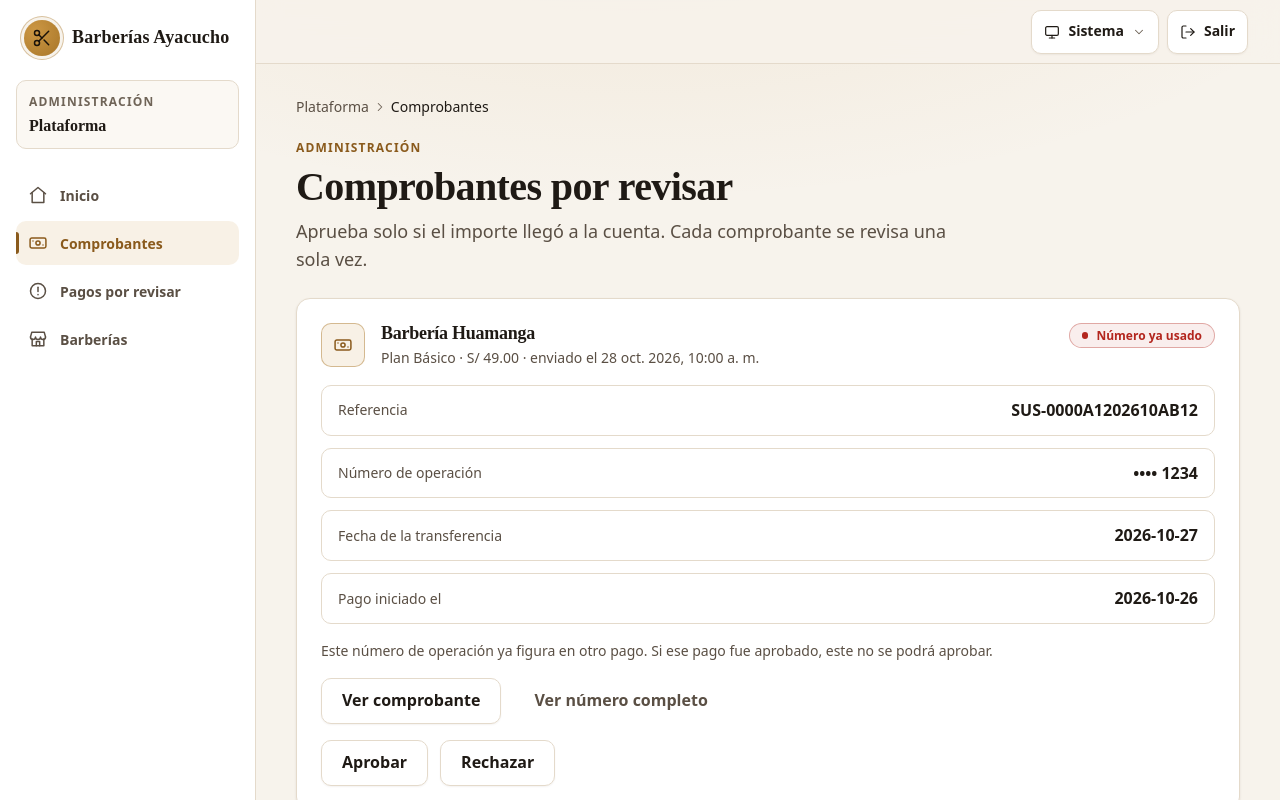
Scenario: Comprobantes por revisar (/plataforma/comprobantes) › rechaza con motivo (y no sin él)
The image size is (1280, 800).
Step 1. Click the button "Rechazar" → (498, 763), box [440, 740, 555, 786]
(page scrolled)
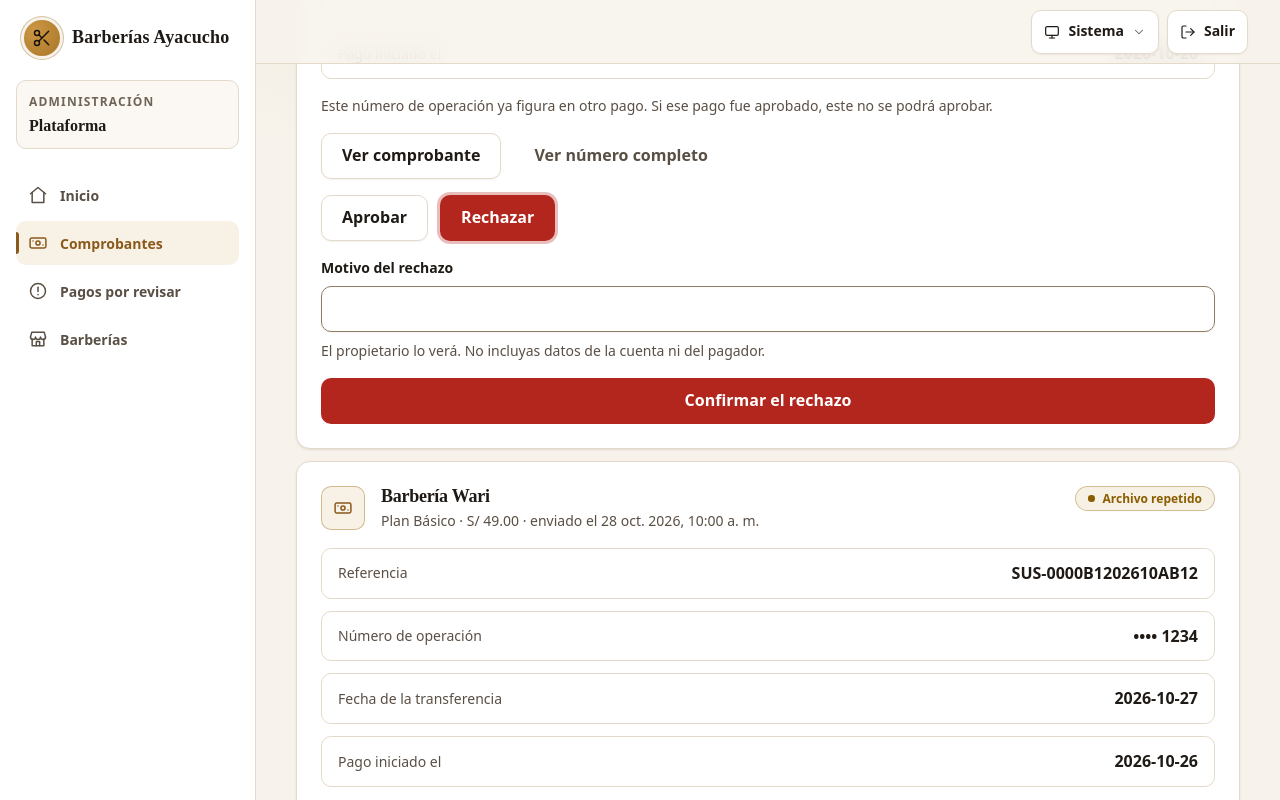
Step 2. Click the button "Confirmar el rechazo" → (768, 401), box [321, 378, 1215, 424]
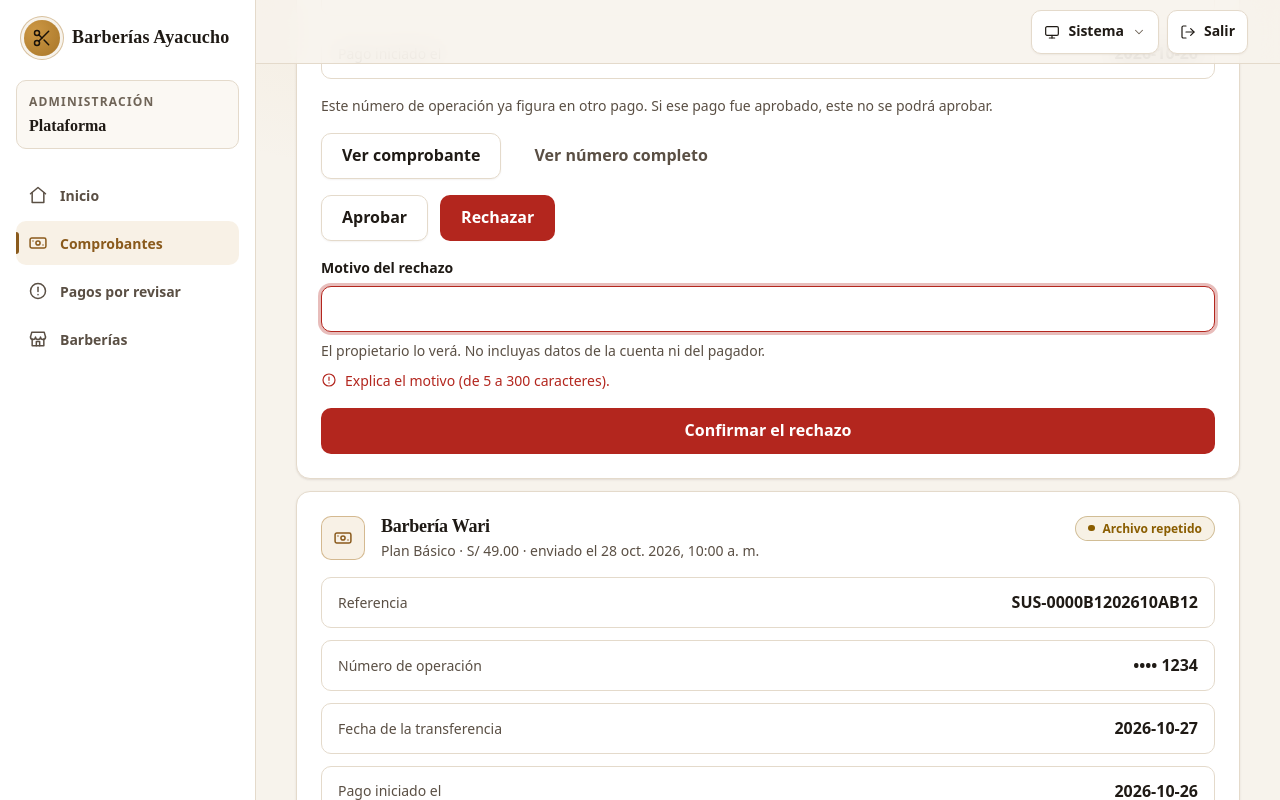
Now the text "Explica el motivo (de 5 a 300 caracteres)." is shown, box [321, 371, 610, 390]
Step 3. Type "Número de operación repetido" into the field labelled "Motivo del rechazo" → (768, 309), box [321, 286, 1215, 332]
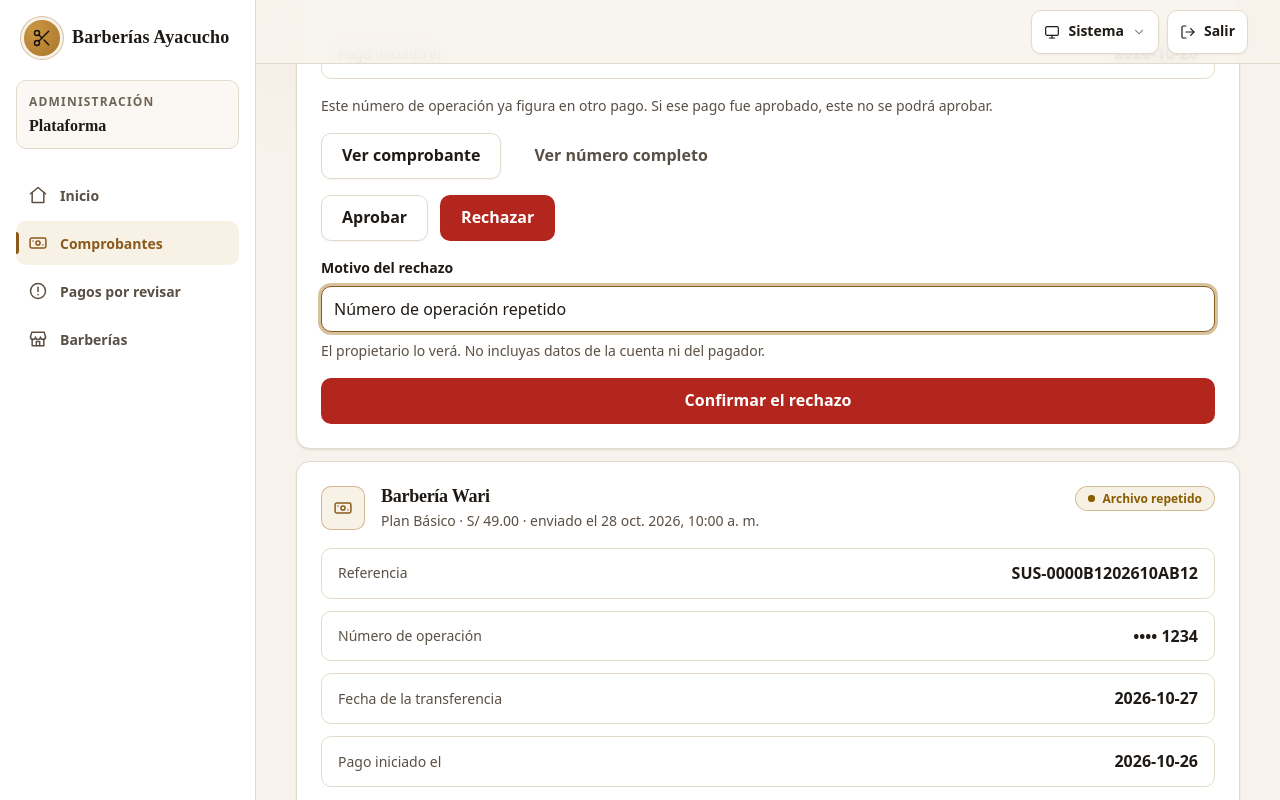
Step 4. Click the button "Confirmar el rechazo" → (768, 401), box [321, 378, 1215, 424]
(page scrolled)
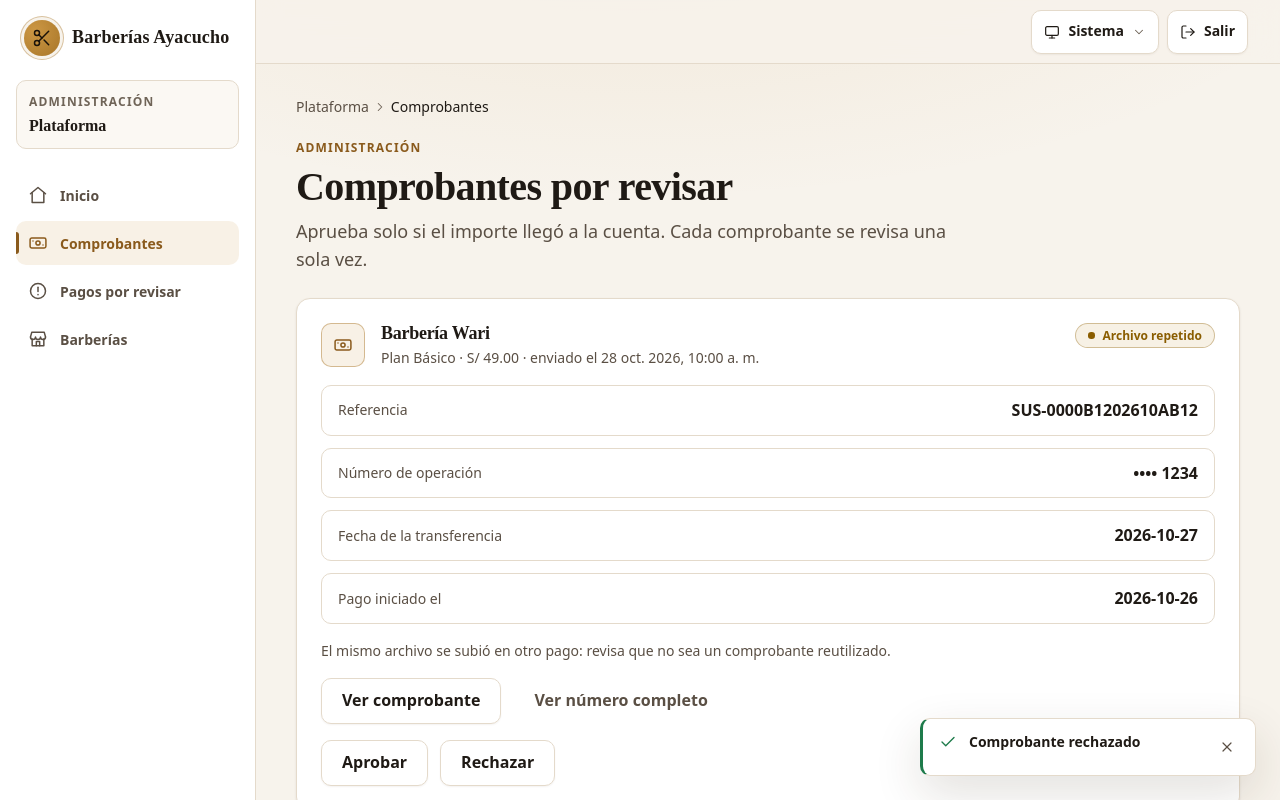
Now the text "Comprobante rechazado" is shown, box [969, 732, 1140, 751]
